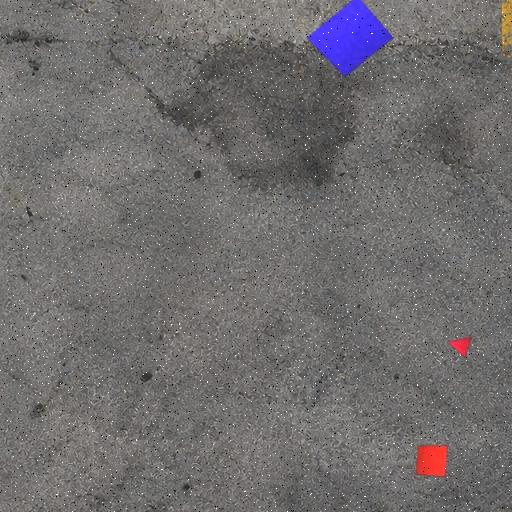BLUE_SQUARE: (306, 0, 394, 78)
RED_SQUARE: (415, 444, 448, 478)
